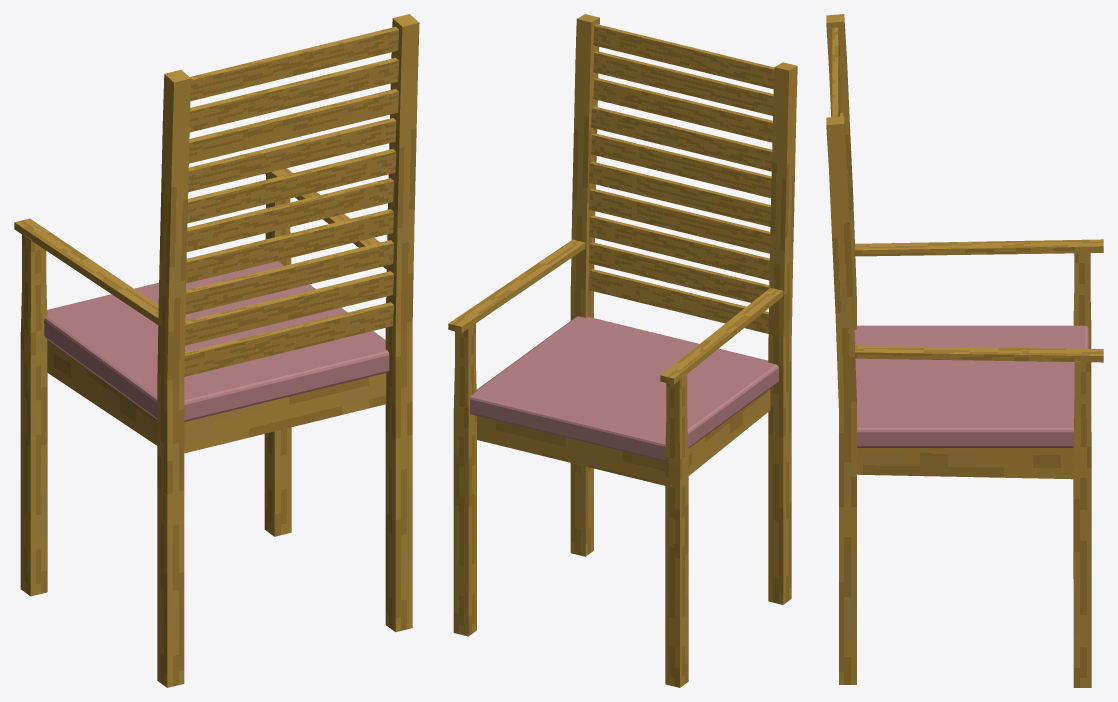
The model's file is Chair1.fbx.
The picture shows the model from 3 angles, left to right: view 1: azimuth 30°, elevation 25°; view 2: azimuth 150°, elevation 25°; view 3: azimuth 270°, elevation 25°; orthographic projection. The views are drawn at different scales.
Visible parts, largest first — view 1: Cube_16; view 2: Cube_16; view 3: Cube_16.
Boxes of the visible parts, x1,y1,x2,y2 form: Cube_16: (14, 14, 419, 687); Cube_16: (448, 14, 797, 687); Cube_16: (826, 14, 1103, 687).
Bounding box in the file's own units: 88.12 × 197 × 88.48.
1 material, 1 textured.
